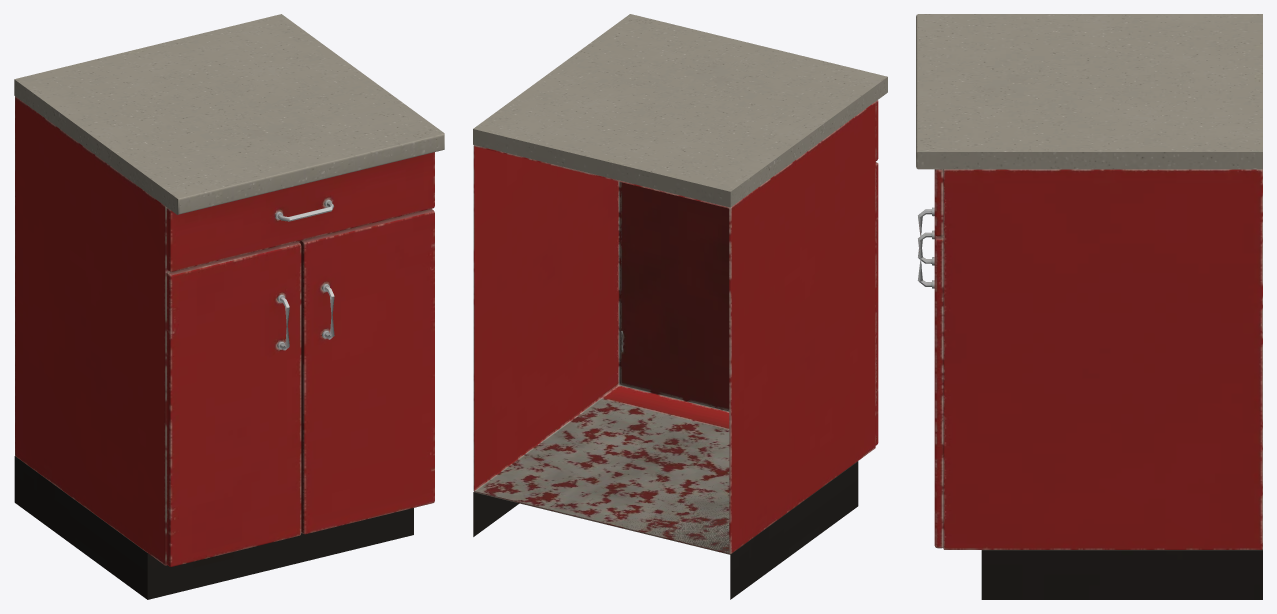
File: kit_base_60_red.glb
The picture shows the model from 3 angles, left to right: view 1: azimuth 30°, elevation 25°; view 2: azimuth 150°, elevation 25°; view 3: azimuth 270°, elevation 25°; orthographic projection. The views are drawn at different scales.
Parts seen in each view (by area): view 1: kit_base_60_red; view 2: kit_base_60_red; view 3: kit_base_60_red.
Part boxes in pixels (<box>): kit_base_60_red: <box>14,14,444,599</box>; kit_base_60_red: <box>473,14,887,599</box>; kit_base_60_red: <box>916,14,1262,599</box>.
Size of the model in its own units: 0.598 by 0.905 by 0.635.
Materials: 1 (1 with a texture image).
